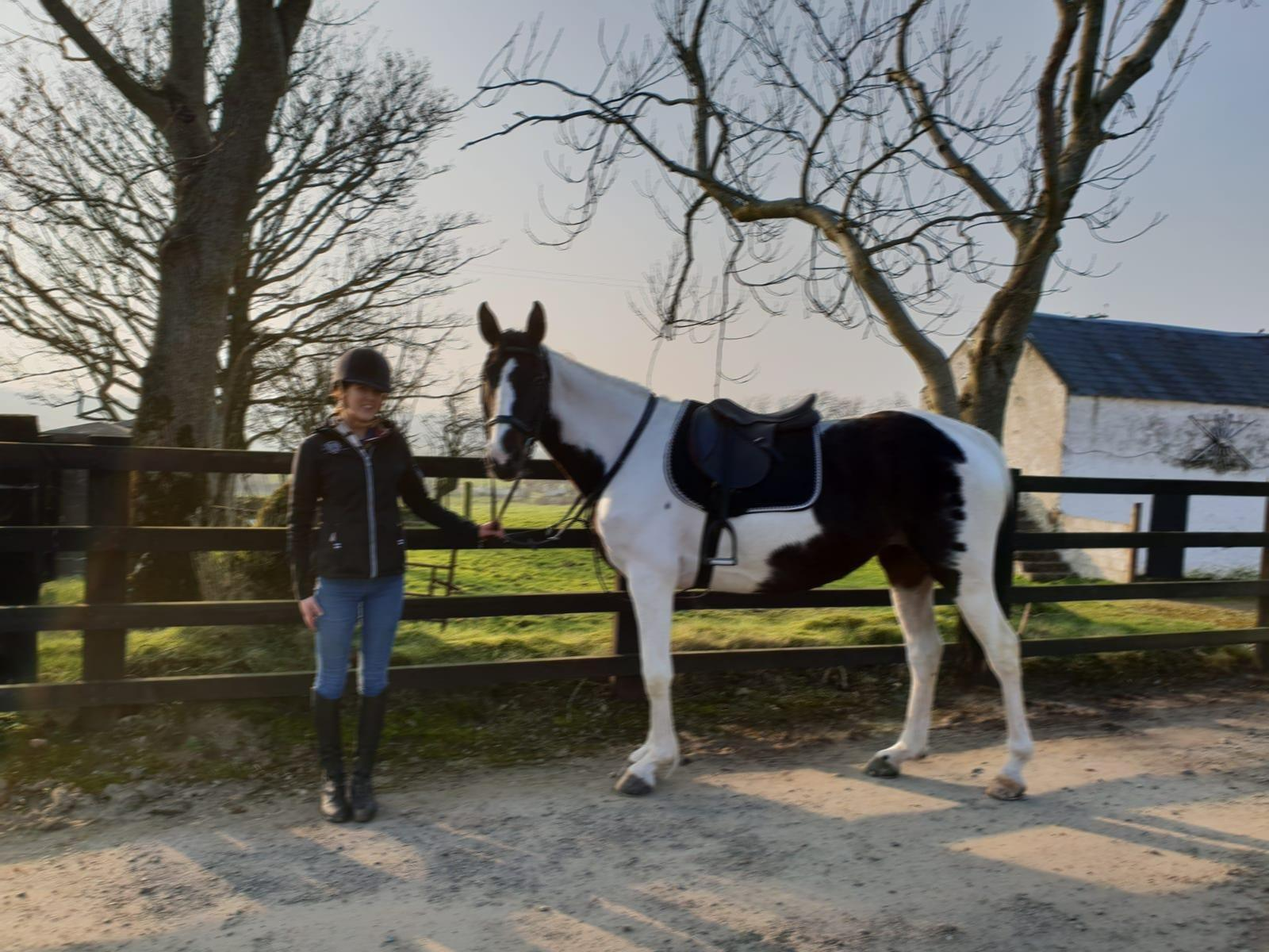horse: (468, 290, 1055, 813)
